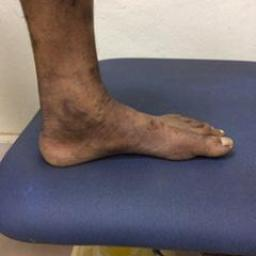Medial View -Left Foot-: (29, 68, 244, 185)
